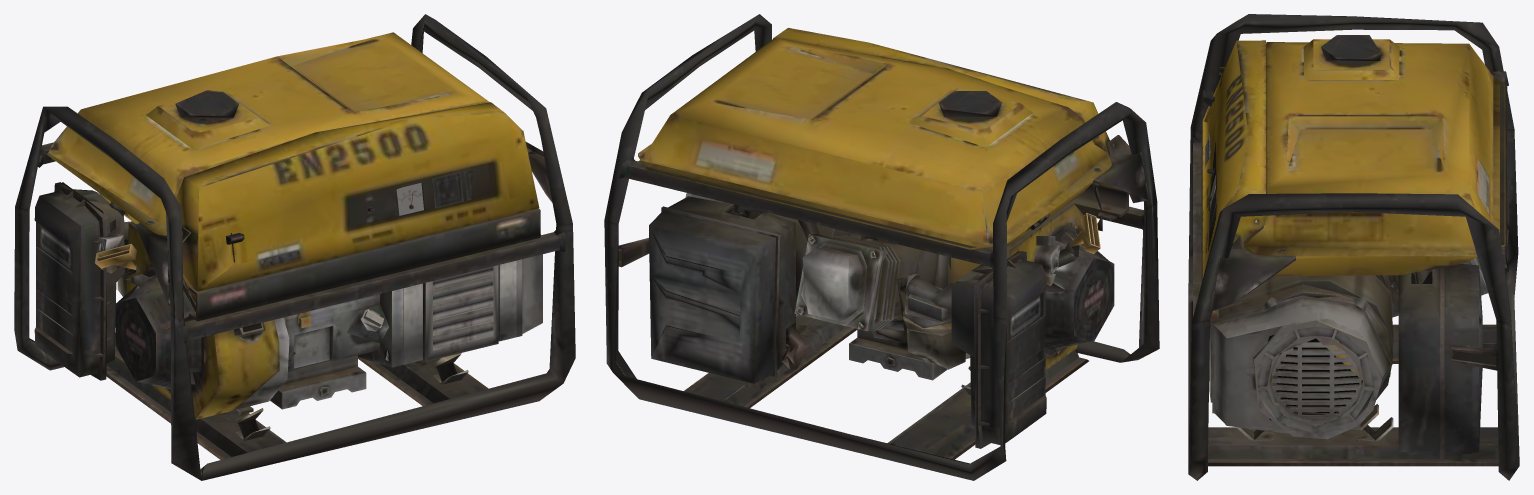
File: portable_generator.glb
3 renders of one model, left to right at view 1: azimuth 30°, elevation 25°; view 2: azimuth 150°, elevation 25°; view 3: azimuth 270°, elevation 25°, orthographic.
Visible parts, largest first — view 1: portable_generator; view 2: portable_generator; view 3: portable_generator.
Boxes of the visible parts, bbox=[...] form: portable_generator: bbox=[14, 14, 575, 480]; portable_generator: bbox=[604, 14, 1159, 480]; portable_generator: bbox=[1188, 14, 1519, 480].
Size of the model in its own units: 0.8146 by 0.5752 by 0.5615.
2 materials, 2 textured.
